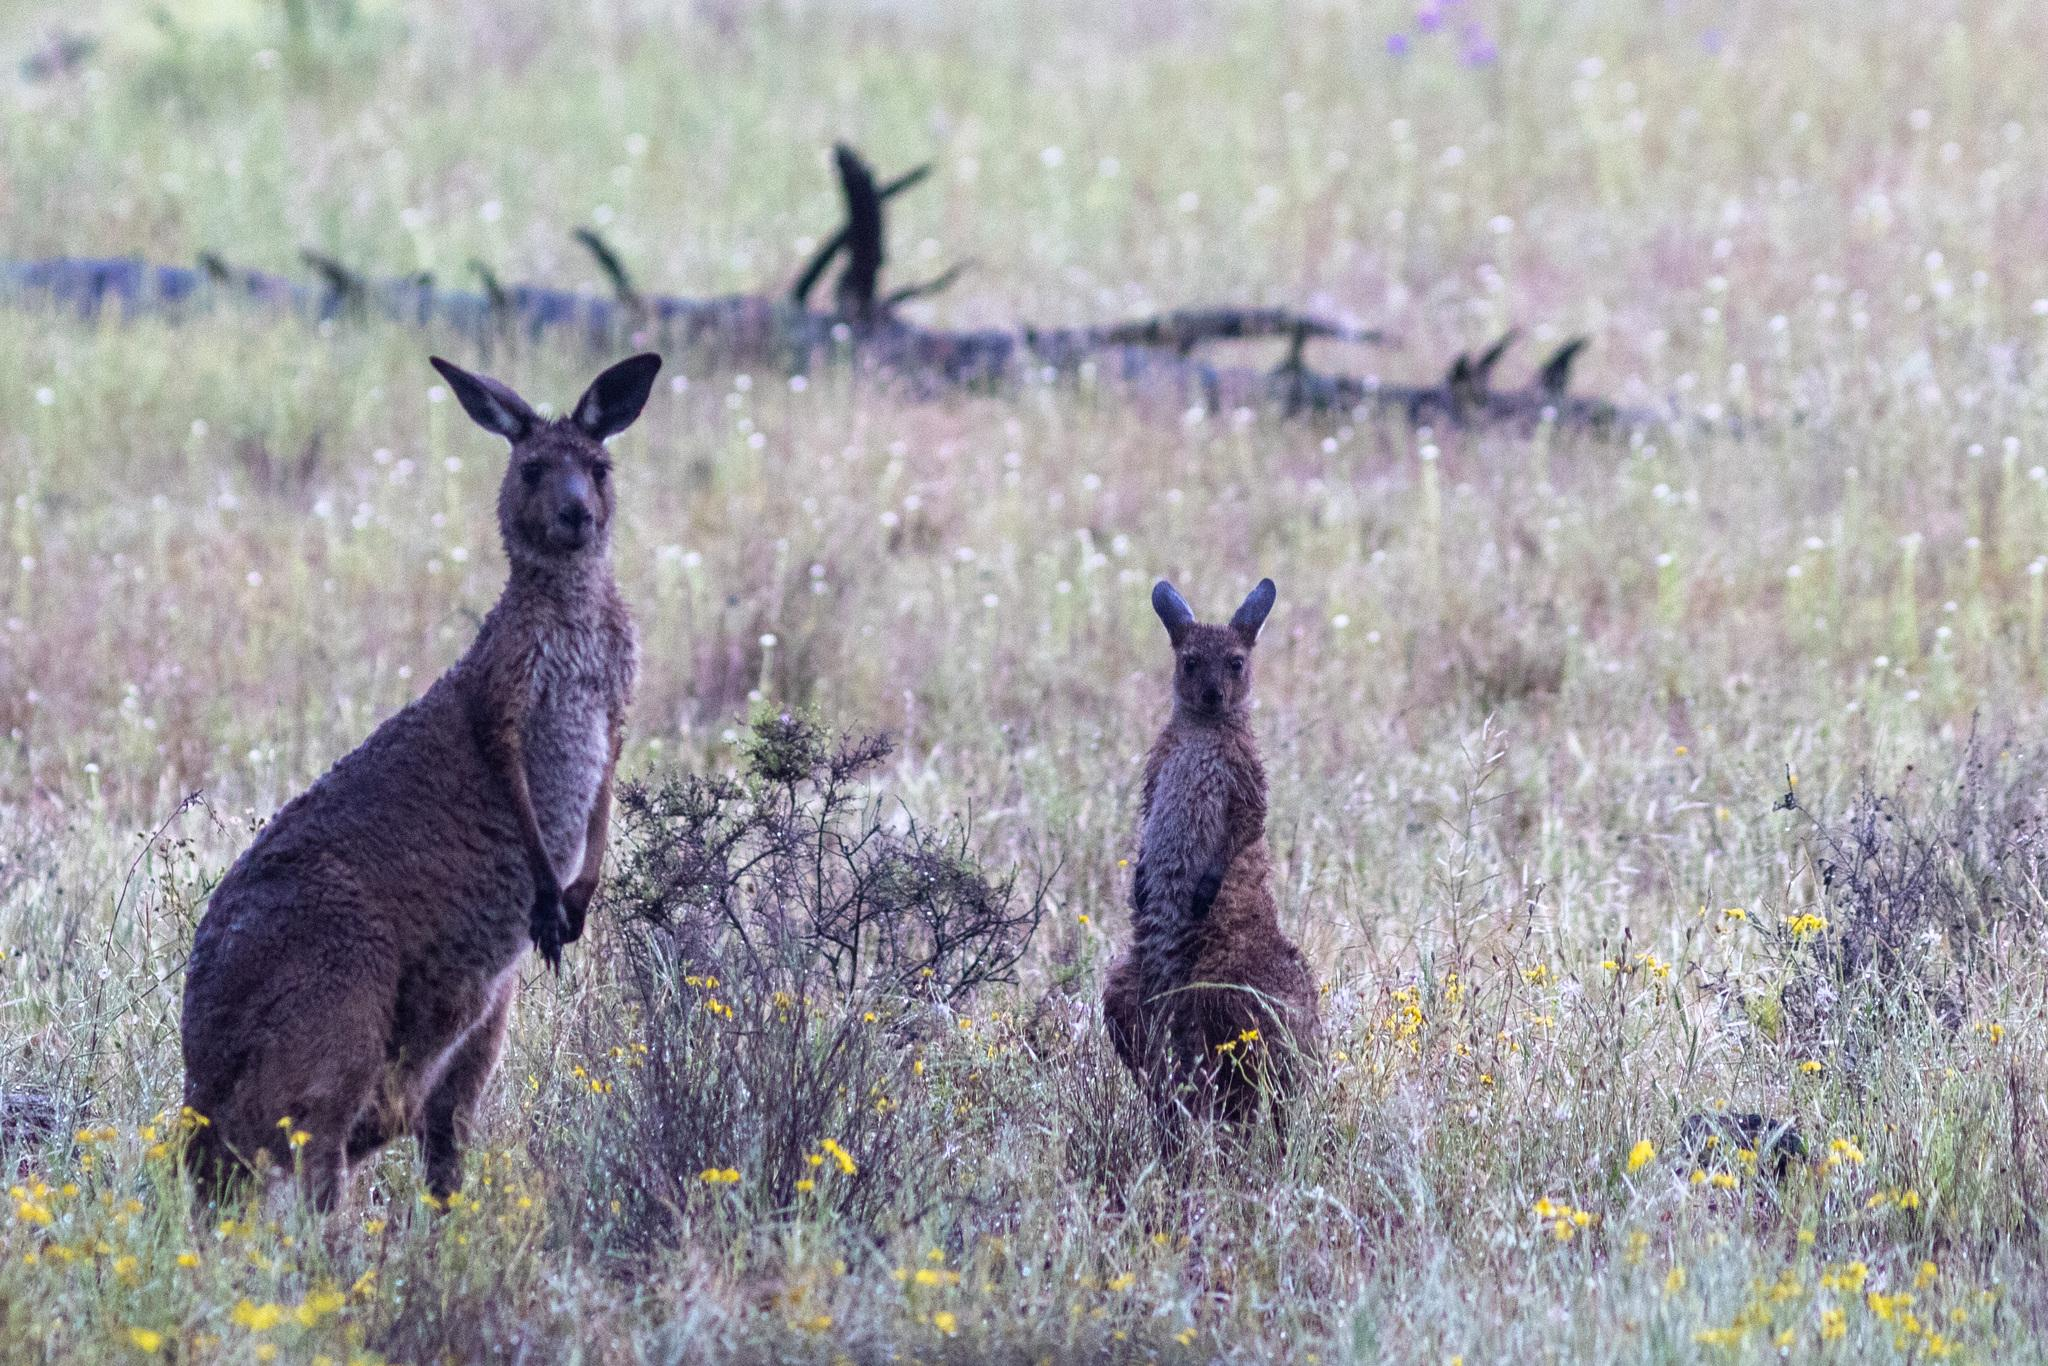Western grey kangaroo: (183, 348, 670, 1262), (1108, 570, 1327, 1235)
